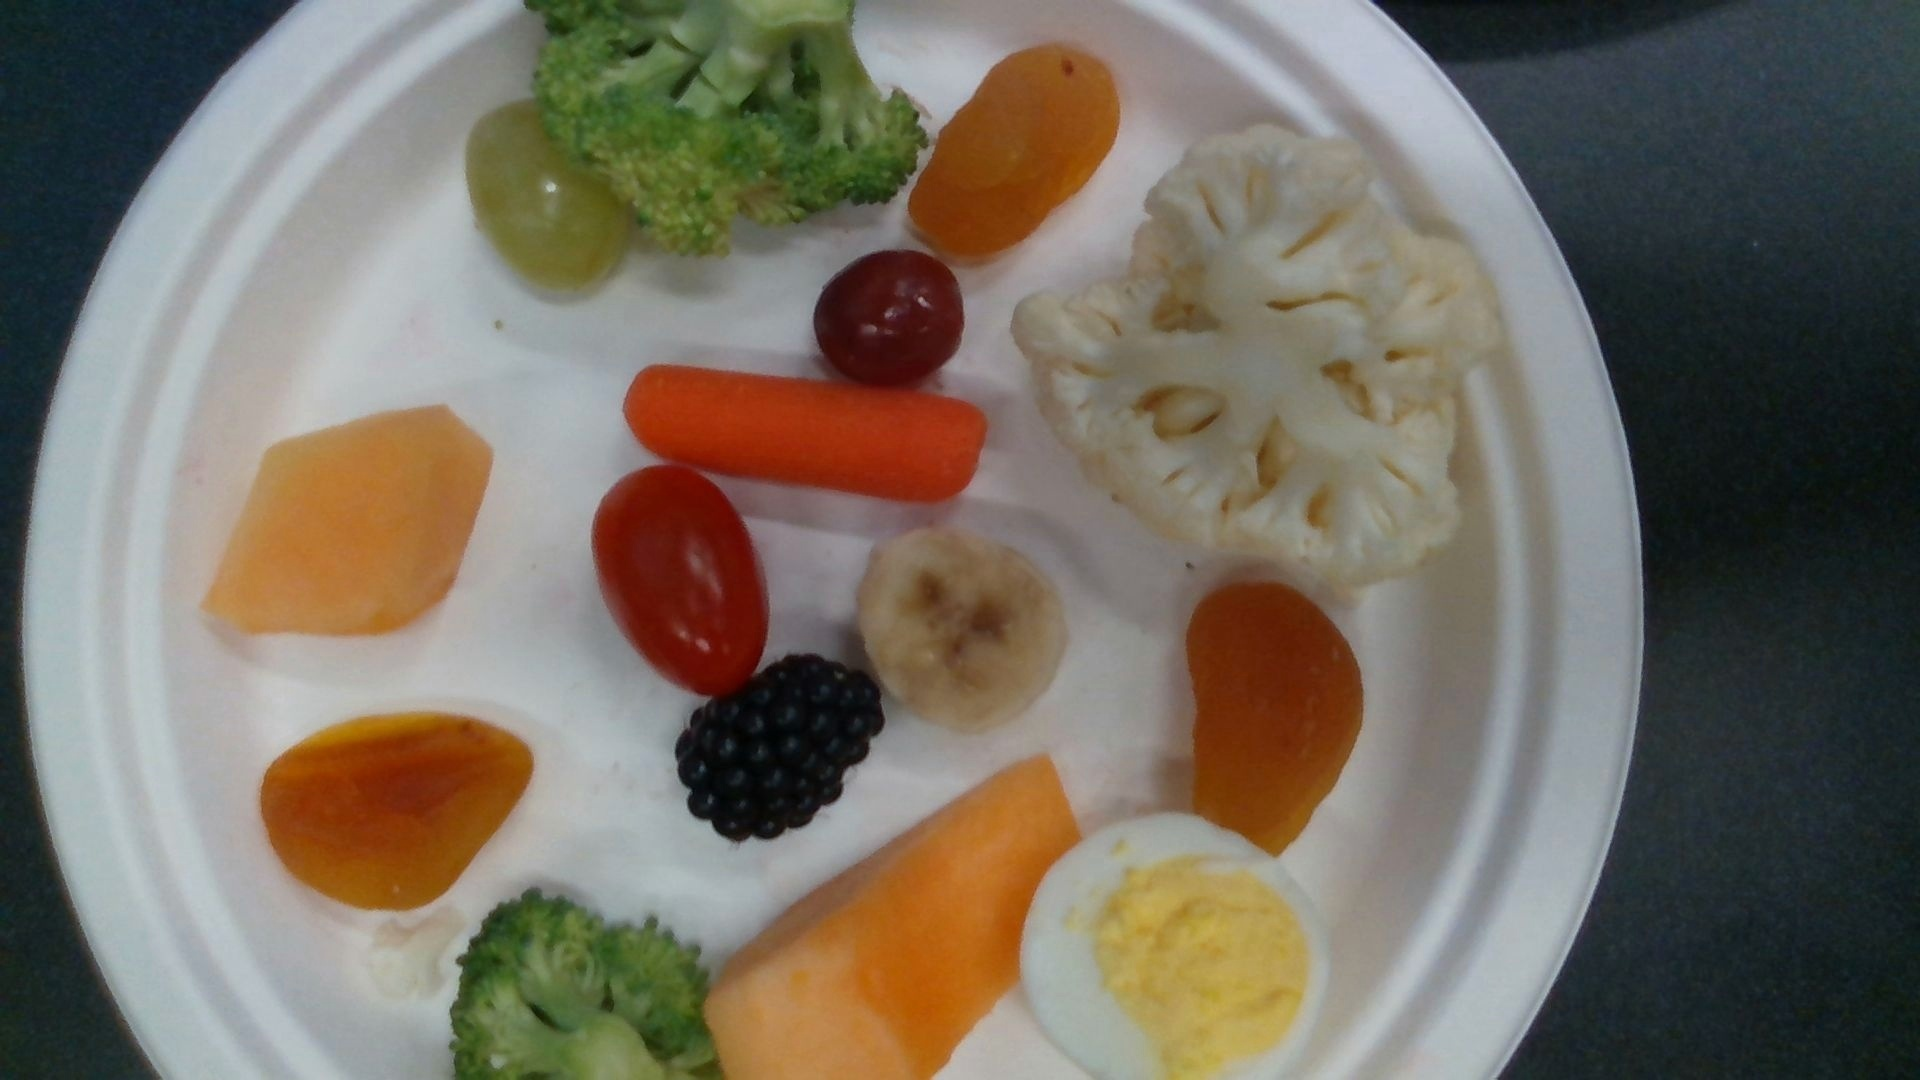apricot: (264, 713, 531, 906), (1187, 585, 1365, 855), (910, 47, 1116, 256)
banana: (857, 526, 1065, 731)
blackberry: (679, 658, 884, 837)
broccoli: (527, 1, 915, 255), (452, 895, 717, 1080)
cantalope: (704, 760, 1083, 1080), (208, 406, 495, 636)
carrot: (622, 367, 986, 501)
cauliflower: (1015, 125, 1499, 588)
cherry_tomato: (593, 465, 769, 696)
egg: (1022, 811, 1333, 1080)
grape_green: (467, 105, 625, 287)
grape_purple: (815, 253, 964, 378)
